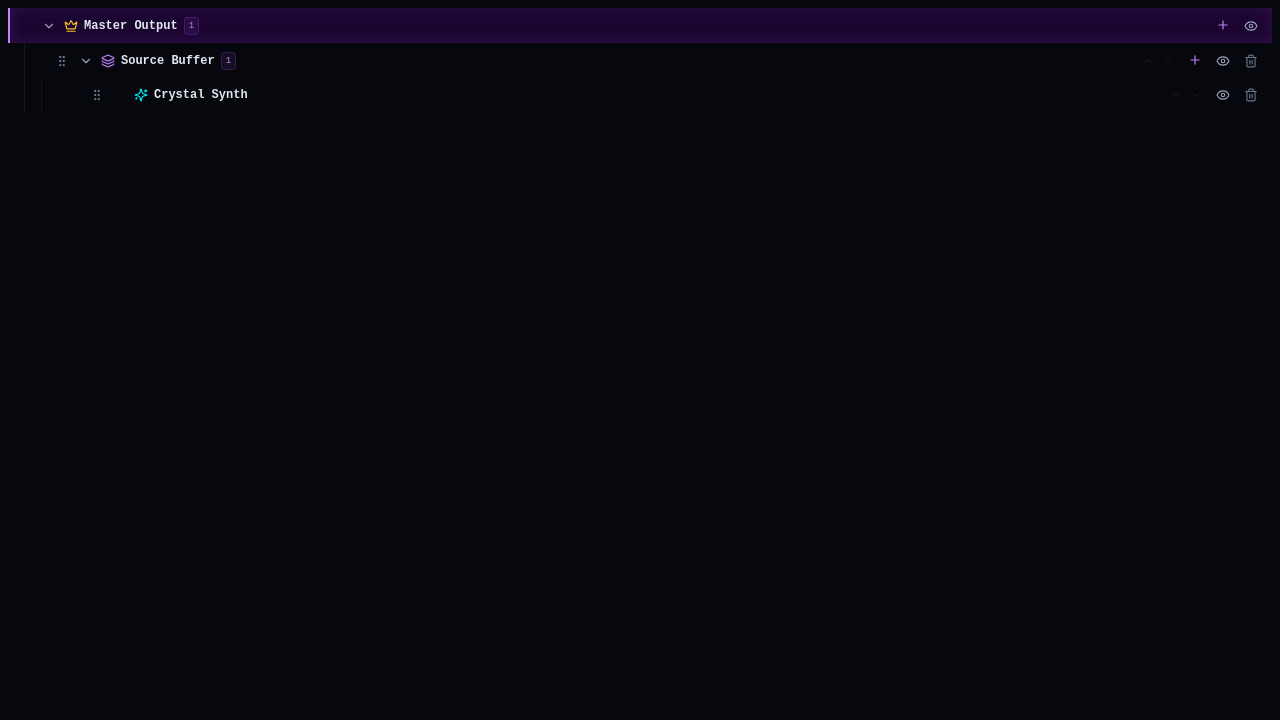
Test: WorkspacePane Component › dismisses the add child layer dialog when pressing esc key
# Click '+' button to open dialog
Click the button with test id "tree-add-child-btn-master-frame-buffer" at (1223, 25), box [1212,14,1234,36]
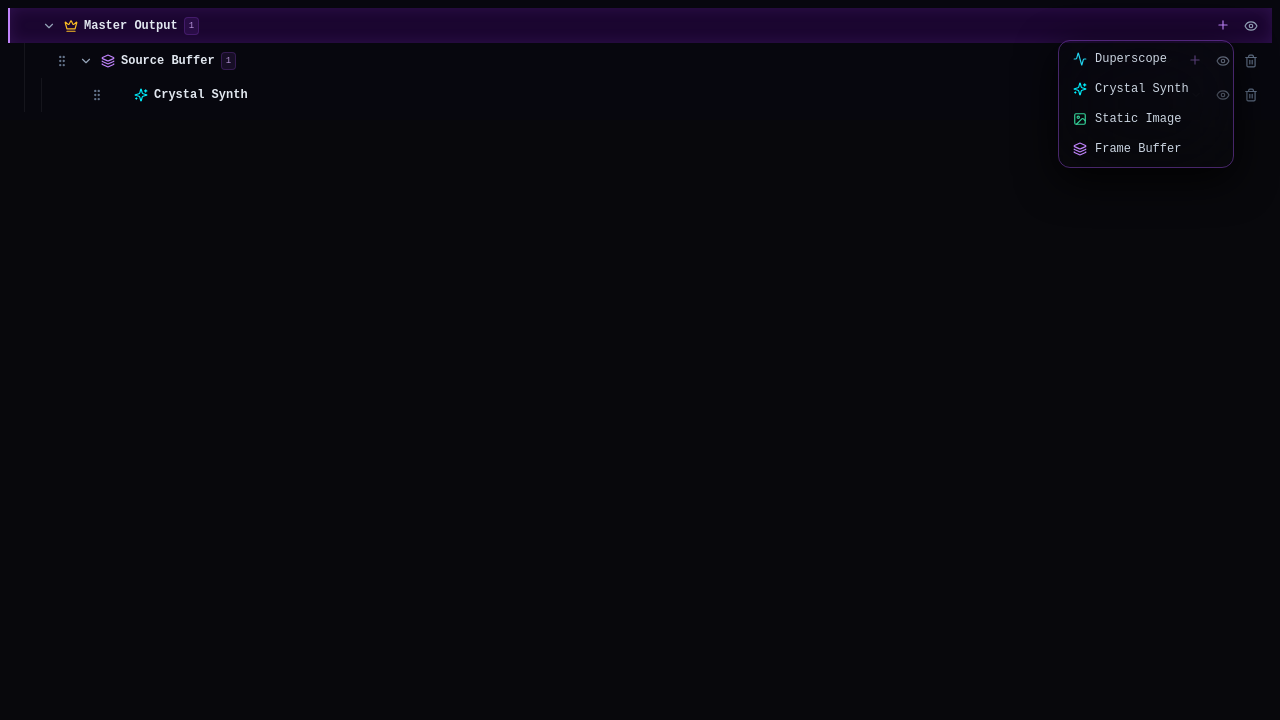
Result: the dialog with test id "tree-add-child-menu-master-frame-buffer" is shown at [1058,40,1234,168]
# Press Escape key
Press Escape
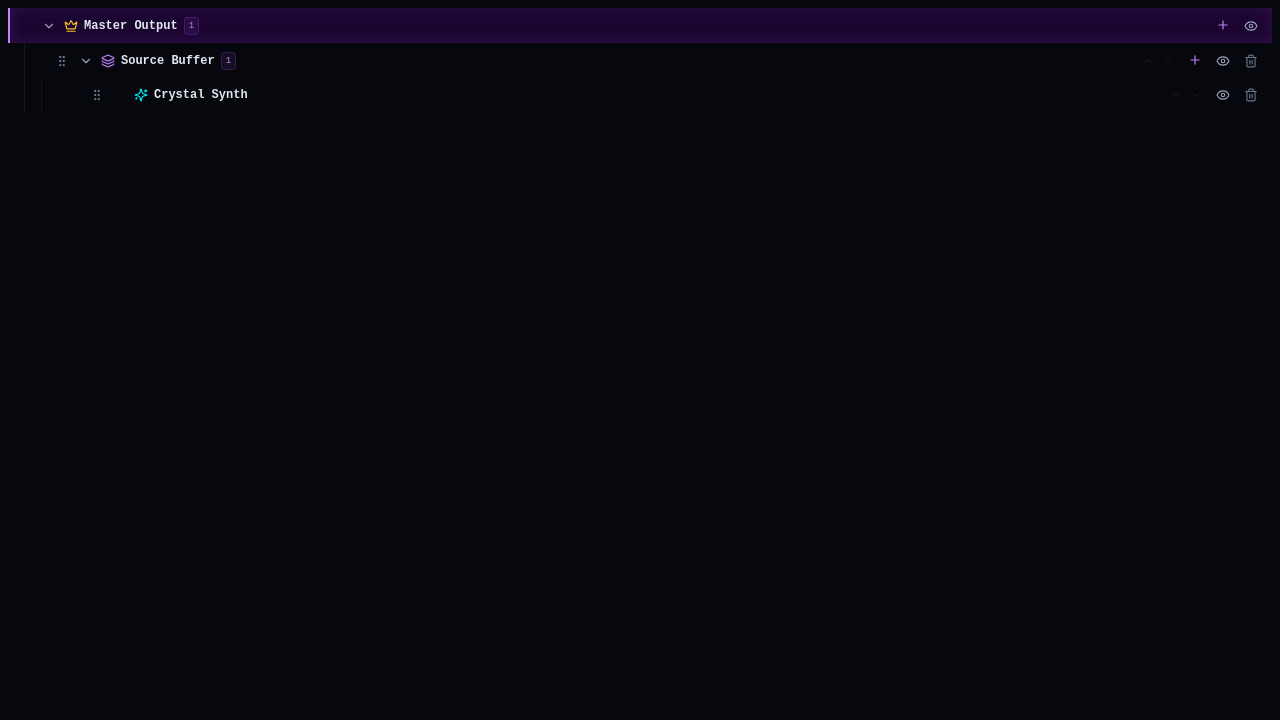
Result: the dialog with test id "tree-add-child-menu-master-frame-buffer" is gone
